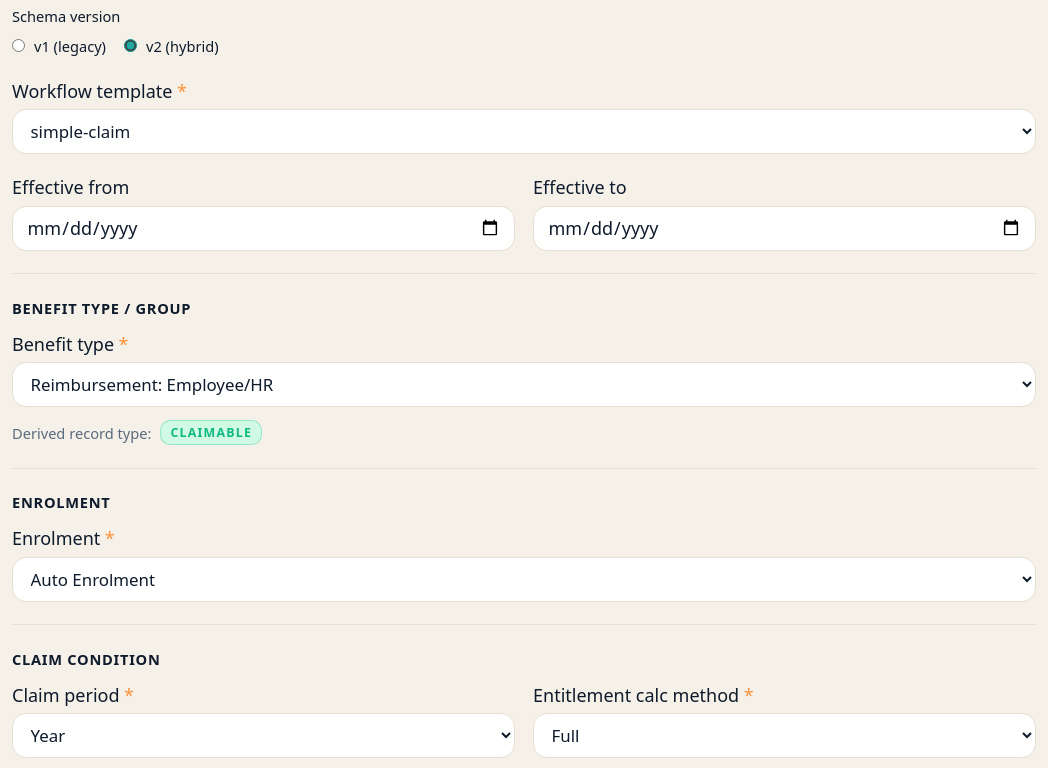
Test: benefit plan record type derivation › removes the plan-prefix radio surface and displays record type from benefit type
(page scrolled)
Expected: the text "Derived record type:" is shown, [12, 422, 151, 444]
Expected: the text "claimable" is shown, [160, 420, 262, 445]
Select "Record" in the dropdown labelled "Benefit type*" at (524, 384), box [12, 362, 1036, 407]
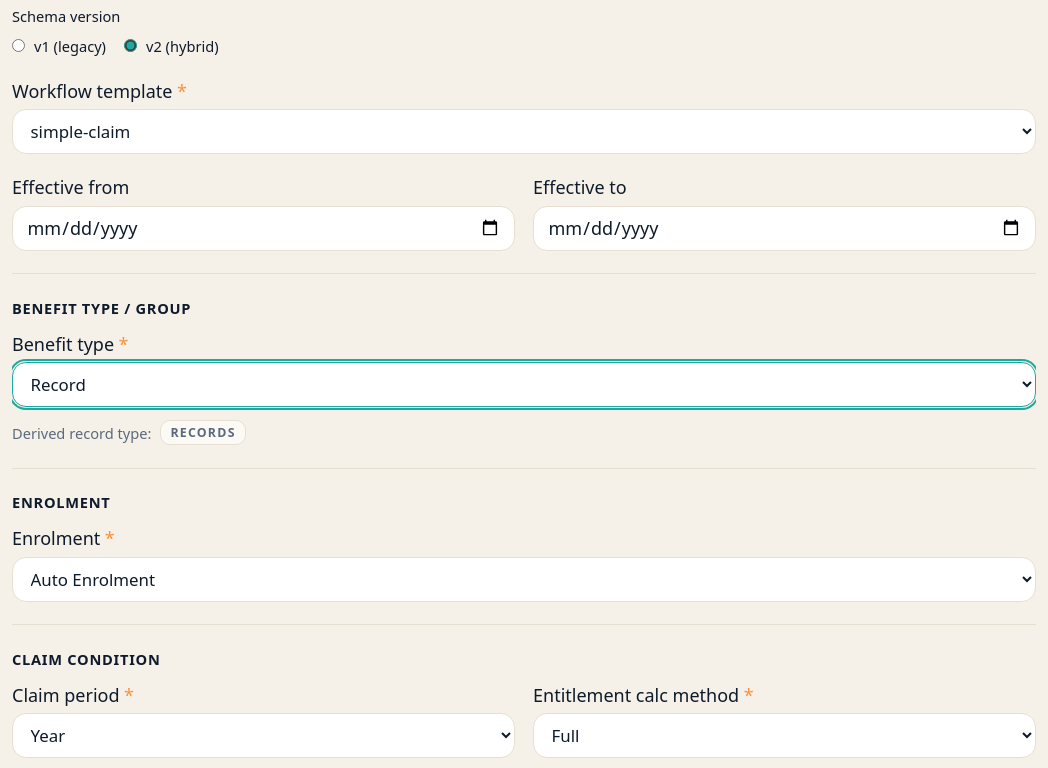
Expected: the text "records" is shown, [160, 420, 246, 445]
